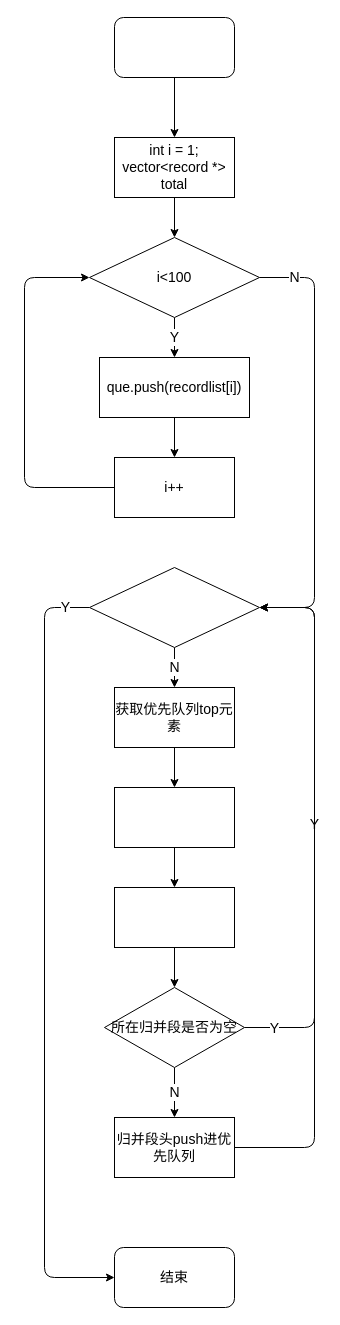
Image size: 340x1325. Some labels were removed from this diagram. Each missing label, with the centre of its shape:
"que.empty()" belongs at (174,607).
"queue.pop()" belongs at (174,917).
"多路归并排序" belongs at (174,47).
"将top元素push进total" belongs at (174,817).
